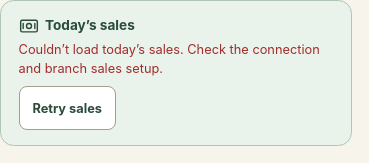
Test case: shows loading, an error with retry, and genuine zero without treating failure as zero
Later steps or results of the test are not shown.
Expected: the message "Couldn’t load today’s sales. Check the connection and branch sales setup." is shown, [19,40,333,78]
What coordinates should you click on to do the following:
click the button "Retry sales"
I would click on:
 (67, 108)
Its box is [19,86,116,130].
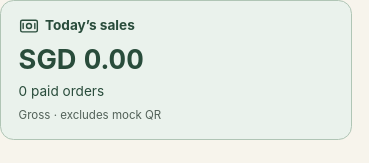
Now the text "0 paid orders" is shown, box [19,83,104,99]
Now the text "Gross · excludes mock QR" is shown, box [19,108,161,122]
Now the element named "Today's sales" shows "0.00", box [19,43,144,76]
